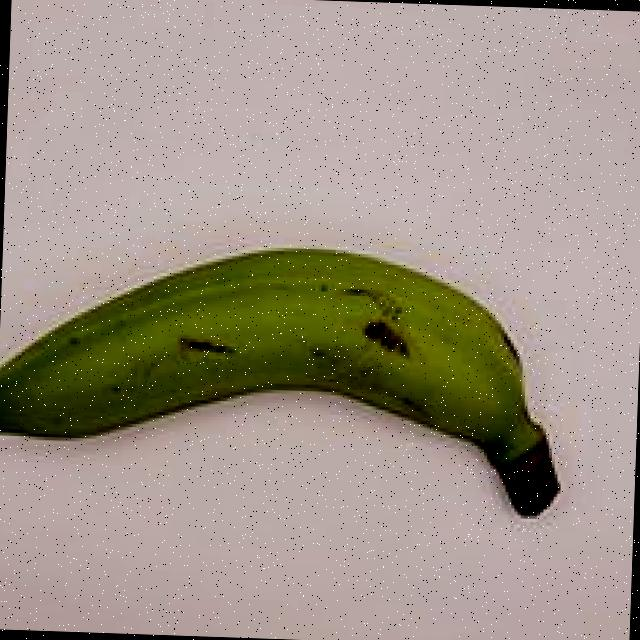Raw: (0, 221, 585, 558)
